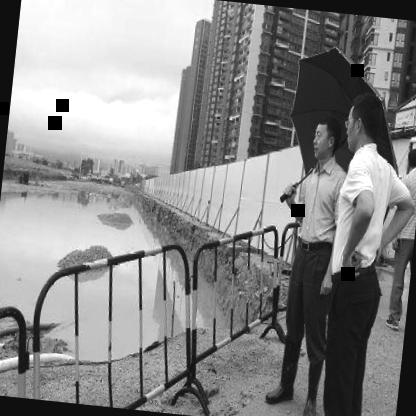head: (339, 88, 390, 157), (306, 108, 346, 162), (400, 142, 416, 181)
